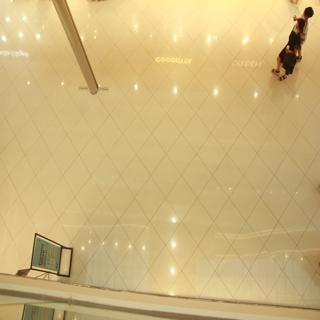person: (279, 15, 311, 49), (279, 40, 301, 87), (285, 1, 320, 23)
